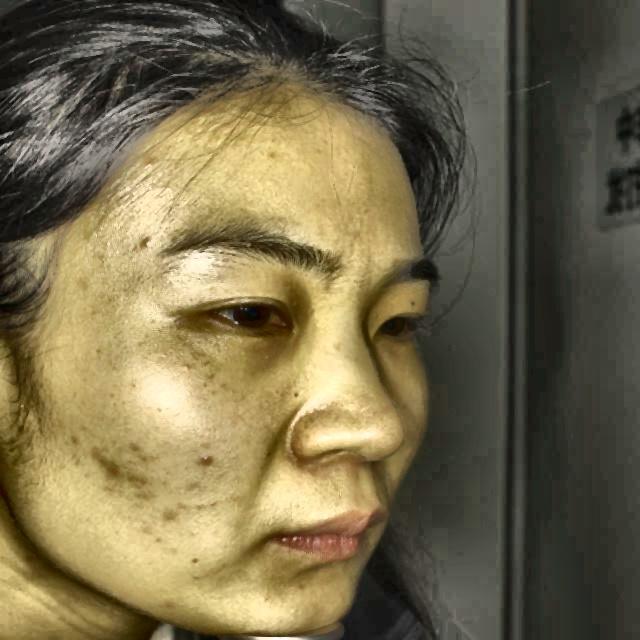comedone: (83, 442, 126, 481), (197, 447, 222, 481), (135, 230, 157, 254)
